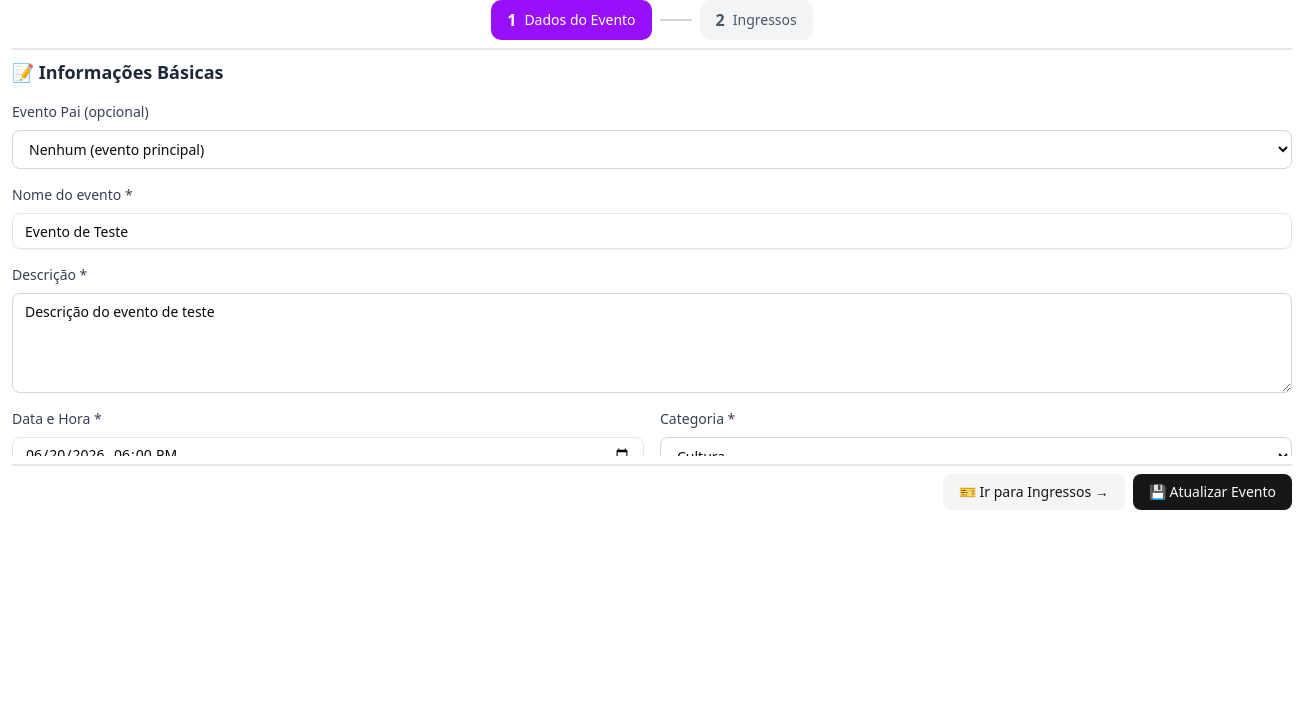
EventFormDialog › navega para step de ingressos
The width and height of the screenshot is (1304, 720).
Step 1. Click the button "🎫 Ir para Ingressos →" → (1034, 492), box [943,474,1125,510]
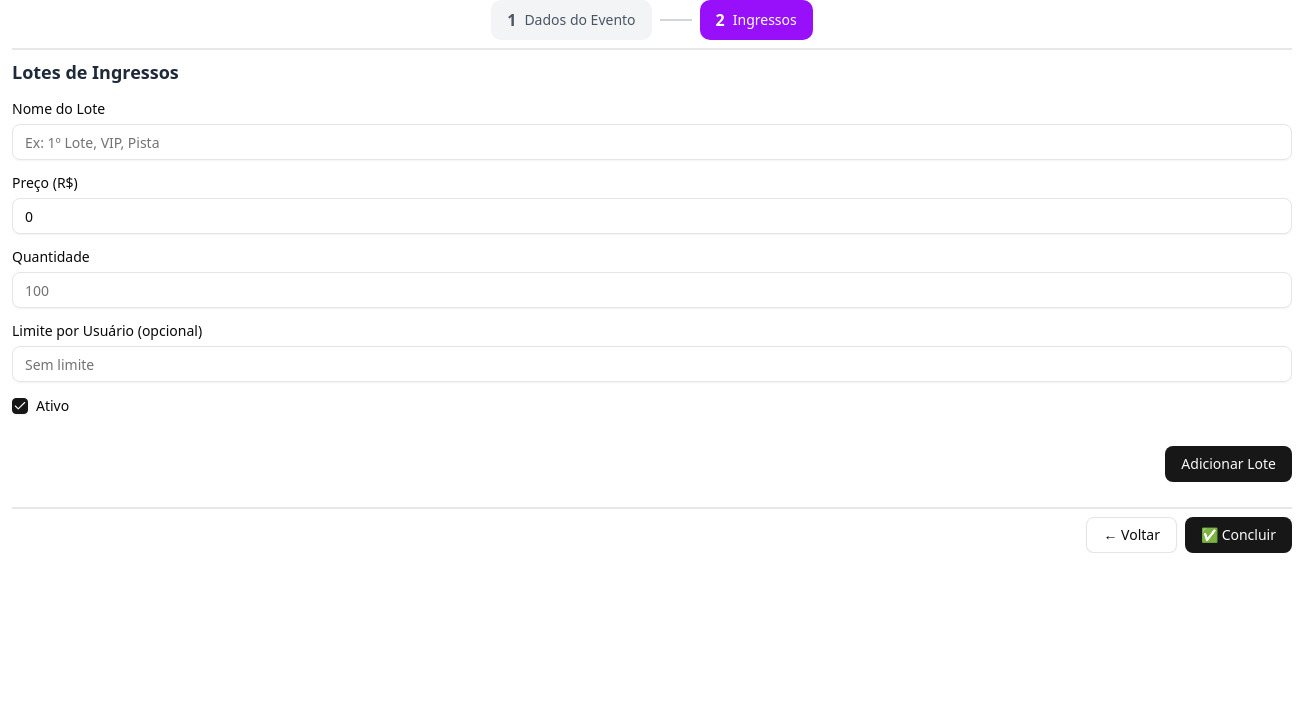
Check: the heading "Lotes de Ingressos" is shown, box [12,60,179,84]
